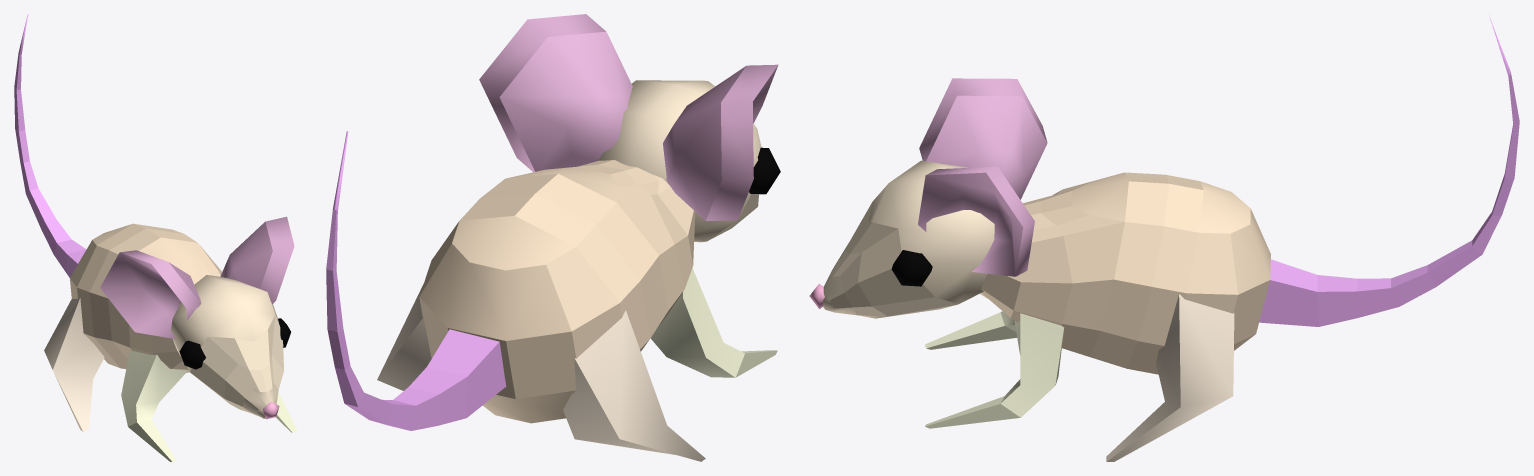
File: Rata_BalncaII.fbx
The picture shows the model from 3 angles, left to right: view 1: azimuth 30°, elevation 25°; view 2: azimuth 150°, elevation 25°; view 3: azimuth 270°, elevation 25°; orthographic projection. The views are drawn at different scales.
Parts seen in each view (by area): view 1: Box003; view 2: Box003; view 3: Box003.
Part boxes in pixels (box(x1,y1,x2,y2)): Box003: box(14, 14, 297, 461); Box003: box(326, 14, 780, 461); Box003: box(809, 16, 1519, 461).
Bounding box in the file's own units: 1.98 × 3.03 × 4.97.
